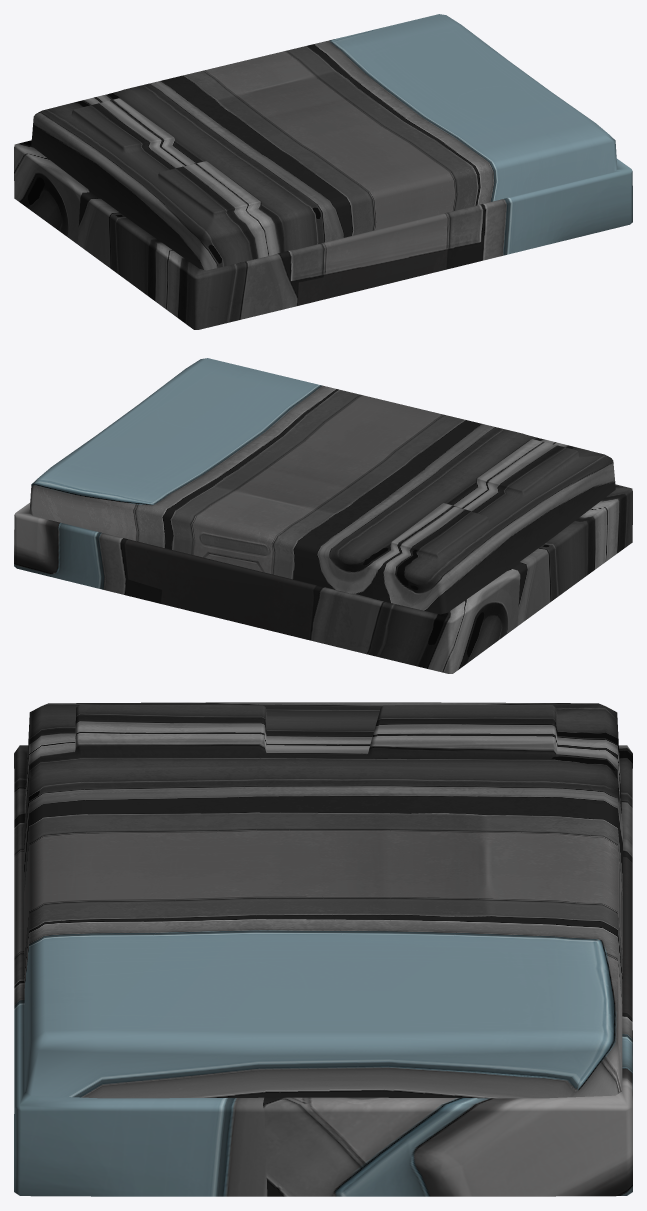
File: ChamberBed.fbx
3 renders of one model, top to bottom at view 1: azimuth 30°, elevation 25°; view 2: azimuth 150°, elevation 25°; view 3: azimuth 270°, elevation 25°, orthographic. The views are drawn at different scales.
Visible parts, largest first — view 1: Low_Bed:RetopoGroup1; view 2: Low_Bed:RetopoGroup1; view 3: Low_Bed:RetopoGroup1.
Boxes of the visible parts, x1,y1,x2,y2 form: Low_Bed:RetopoGroup1: (14,14,632,329); Low_Bed:RetopoGroup1: (14,358,632,673); Low_Bed:RetopoGroup1: (14,702,632,1196).
Size of the model in its own units: 272 by 56.96 by 197.
